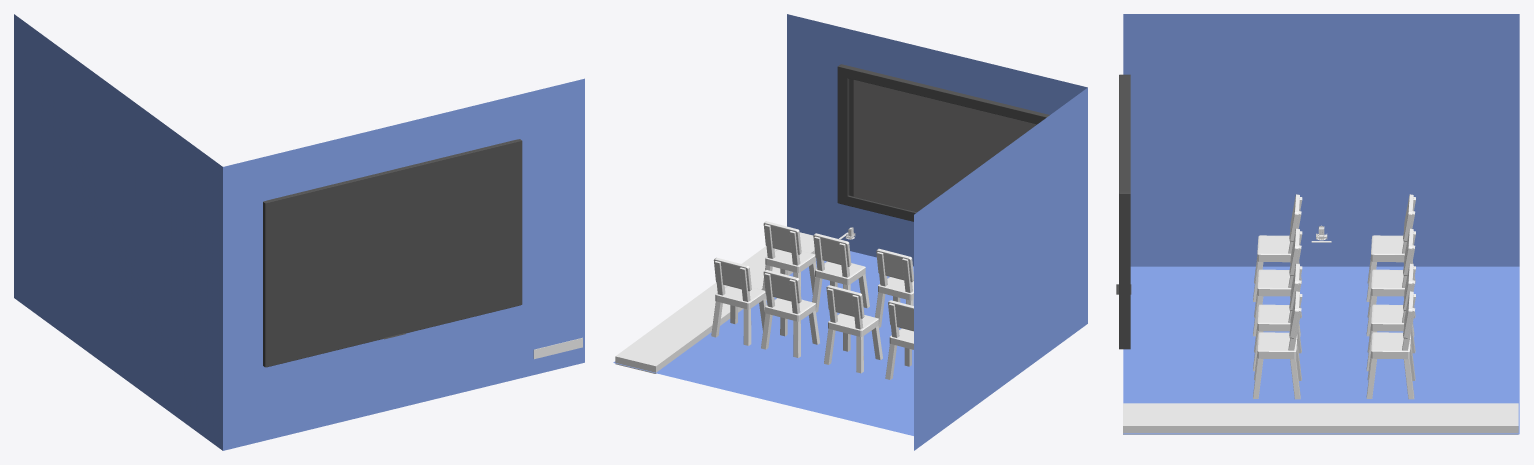
File: simple_theater_2.glb
The picture shows the model from 3 angles, left to right: view 1: azimuth 30°, elevation 25°; view 2: azimuth 150°, elevation 25°; view 3: azimuth 270°, elevation 25°; orthographic projection. The views are drawn at different scales.
Parts seen in each view (by area): view 1: Wall, PC 1; view 2: Wall, PC 1, Floor, Wood floor 1, Chair 1.006, Chair 1.007, Chair 1.005, Chair 1.002, Chair 1.001, Chair 1.003, Chair 1.008; view 3: Wall, Floor, Wood floor 1, PC 1, Chair 1.001, Chair 1.005, Chair 1.007, Chair 1.003, Chair 1.004, Chair 1.008, Chair 1.002, Chair 1.006.
Boxes of the visible parts, x1,y1,x2,y2 form: Wall: [14, 14, 584, 450]; PC 1: [263, 139, 522, 367]; Wall: [787, 14, 1087, 450]; PC 1: [837, 64, 1049, 221]; Floor: [613, 251, 913, 435]; Wood floor 1: [615, 232, 814, 373]; Chair 1.006: [761, 270, 819, 357]; Chair 1.007: [824, 285, 882, 373]; Chair 1.005: [711, 257, 766, 345]; Chair 1.002: [812, 233, 869, 312]; Chair 1.001: [762, 221, 816, 300]; Chair 1.003: [875, 248, 913, 327]; Chair 1.008: [885, 300, 913, 379]; Wall: [1123, 14, 1519, 266]; Floor: [1123, 266, 1519, 434]; Wood floor 1: [1123, 403, 1518, 434]; PC 1: [1116, 74, 1131, 349]; Chair 1.001: [1253, 291, 1302, 399]; Chair 1.005: [1366, 291, 1415, 399]; Chair 1.007: [1366, 228, 1415, 336]; Chair 1.003: [1253, 228, 1302, 336]; Chair 1.004: [1253, 194, 1302, 301]; Chair 1.008: [1366, 194, 1415, 301]; Chair 1.002: [1253, 263, 1302, 371]; Chair 1.006: [1366, 263, 1415, 371].
Bounding box in the file's own units: 158 × 119 × 161.
